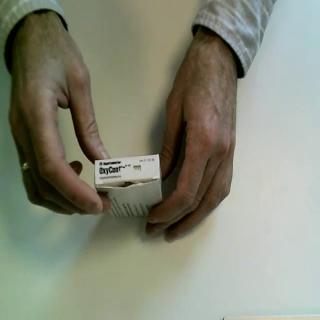oxycontin5mg: (94, 153, 165, 220)
